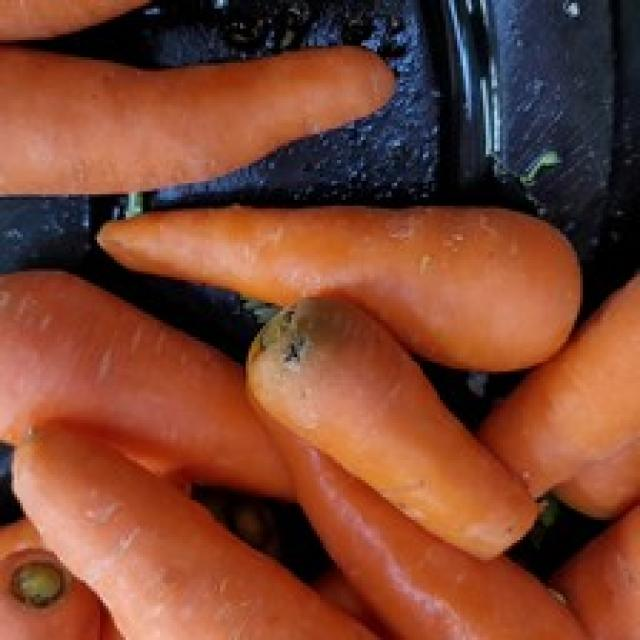Fresh_Carrot: (27, 463, 373, 638), (12, 270, 267, 450), (142, 206, 548, 311), (12, 47, 374, 141), (501, 269, 628, 492)
